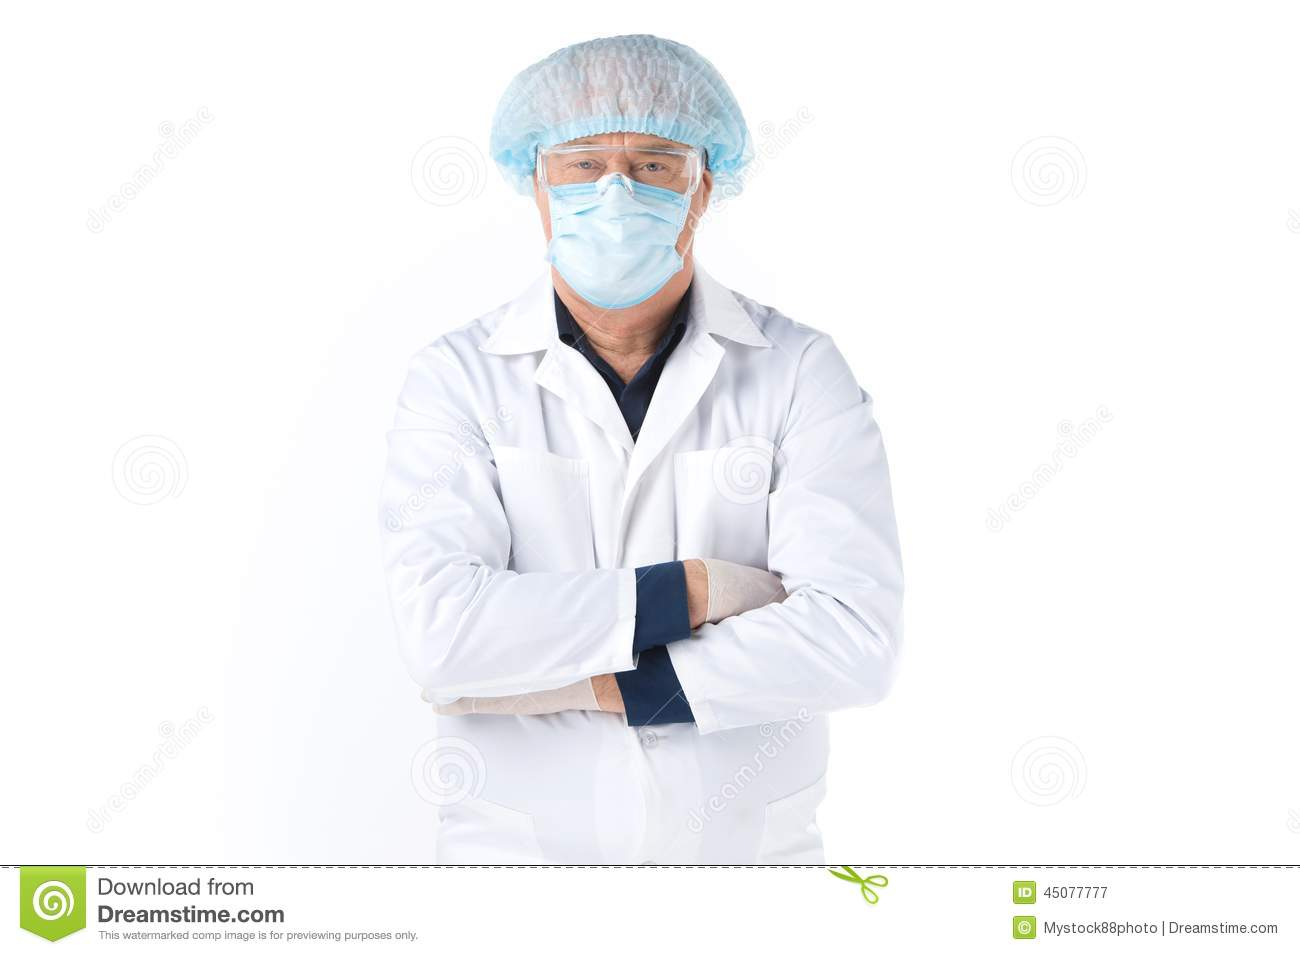mask: (545, 180, 690, 311)
